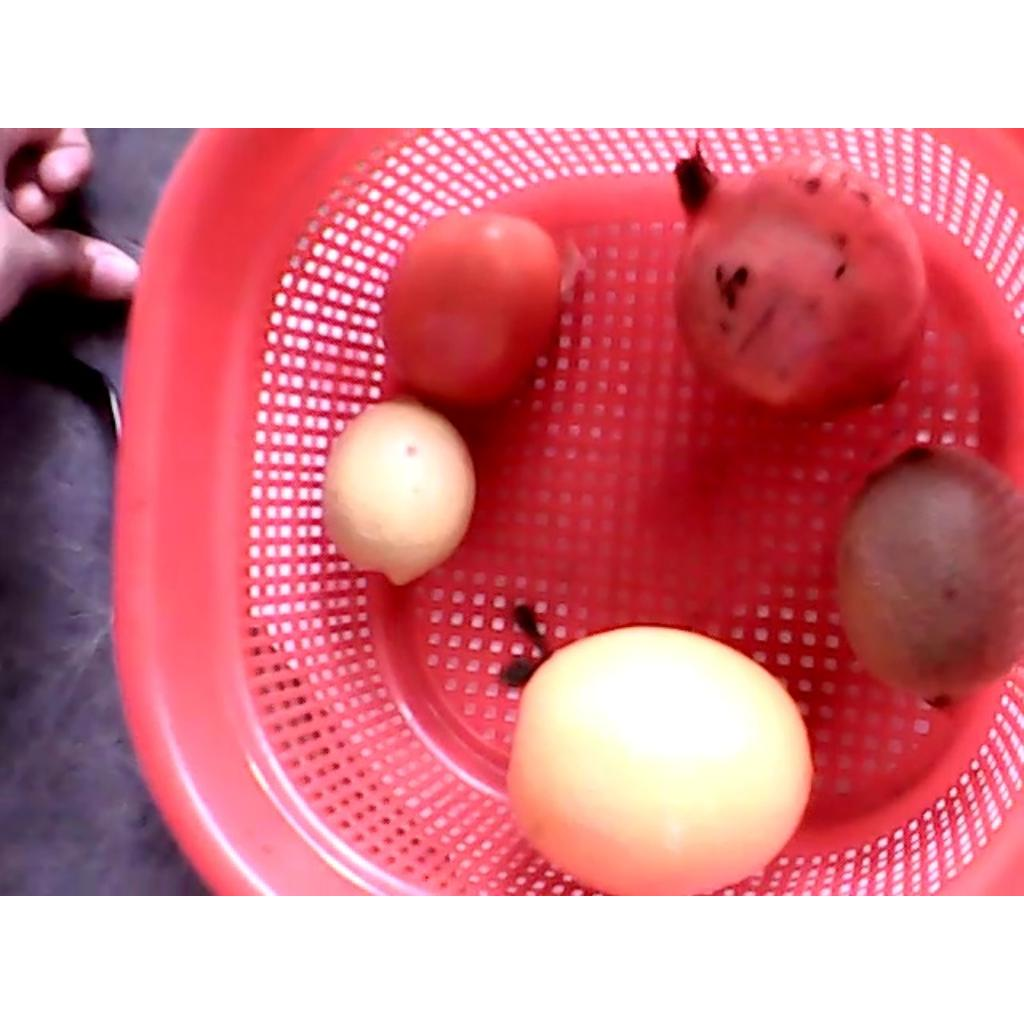kiwi: (838, 442, 1022, 708)
lemon: (319, 402, 475, 586)
orange: (506, 626, 815, 894)
pomegranate: (672, 140, 928, 424)
tomato: (381, 208, 562, 411)
